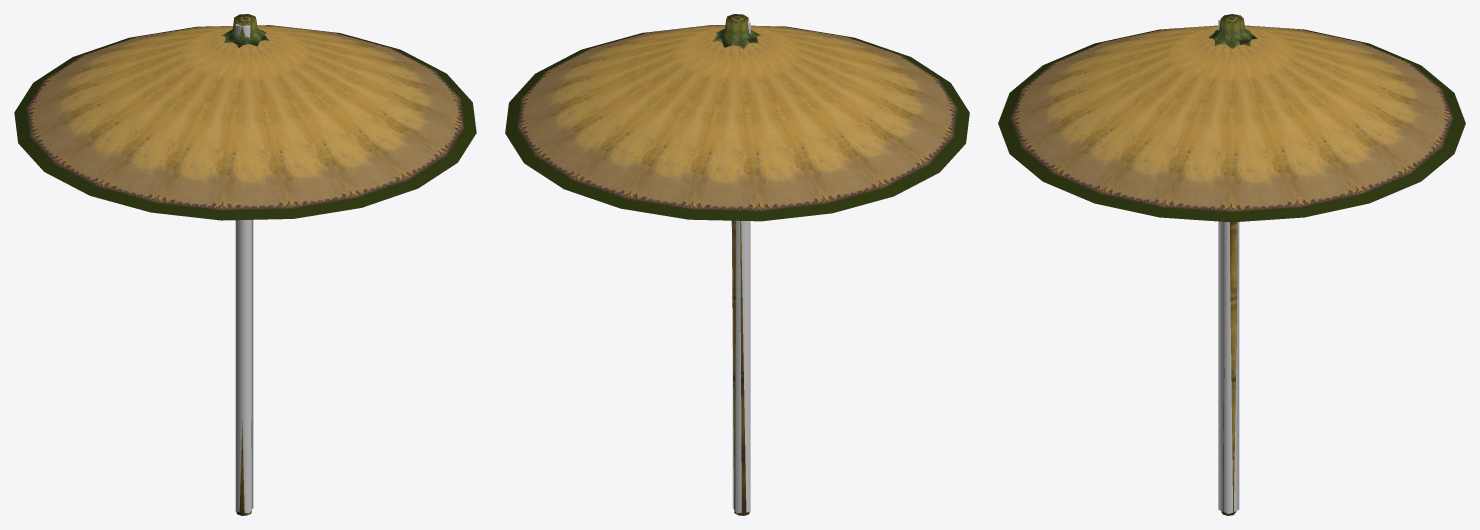
Rendered from YHJ_san.FBX.
The picture shows the model from 3 angles, left to right: view 1: azimuth 30°, elevation 25°; view 2: azimuth 150°, elevation 25°; view 3: azimuth 270°, elevation 25°; orthographic projection.
Parts seen in each view (by area): view 1: YHJ_san, YHJ_san-col; view 2: YHJ_san, YHJ_san-col; view 3: YHJ_san, YHJ_san-col.
Boxes of the visible parts, bbox=[...] form: YHJ_san: bbox=[14, 14, 476, 515]; YHJ_san-col: bbox=[235, 24, 253, 513]; YHJ_san: bbox=[505, 14, 969, 515]; YHJ_san-col: bbox=[732, 20, 750, 513]; YHJ_san: bbox=[998, 14, 1465, 515]; YHJ_san-col: bbox=[1218, 19, 1239, 513].
Bounding box in the file's own units: 3.03 × 3.53 × 3.03.
